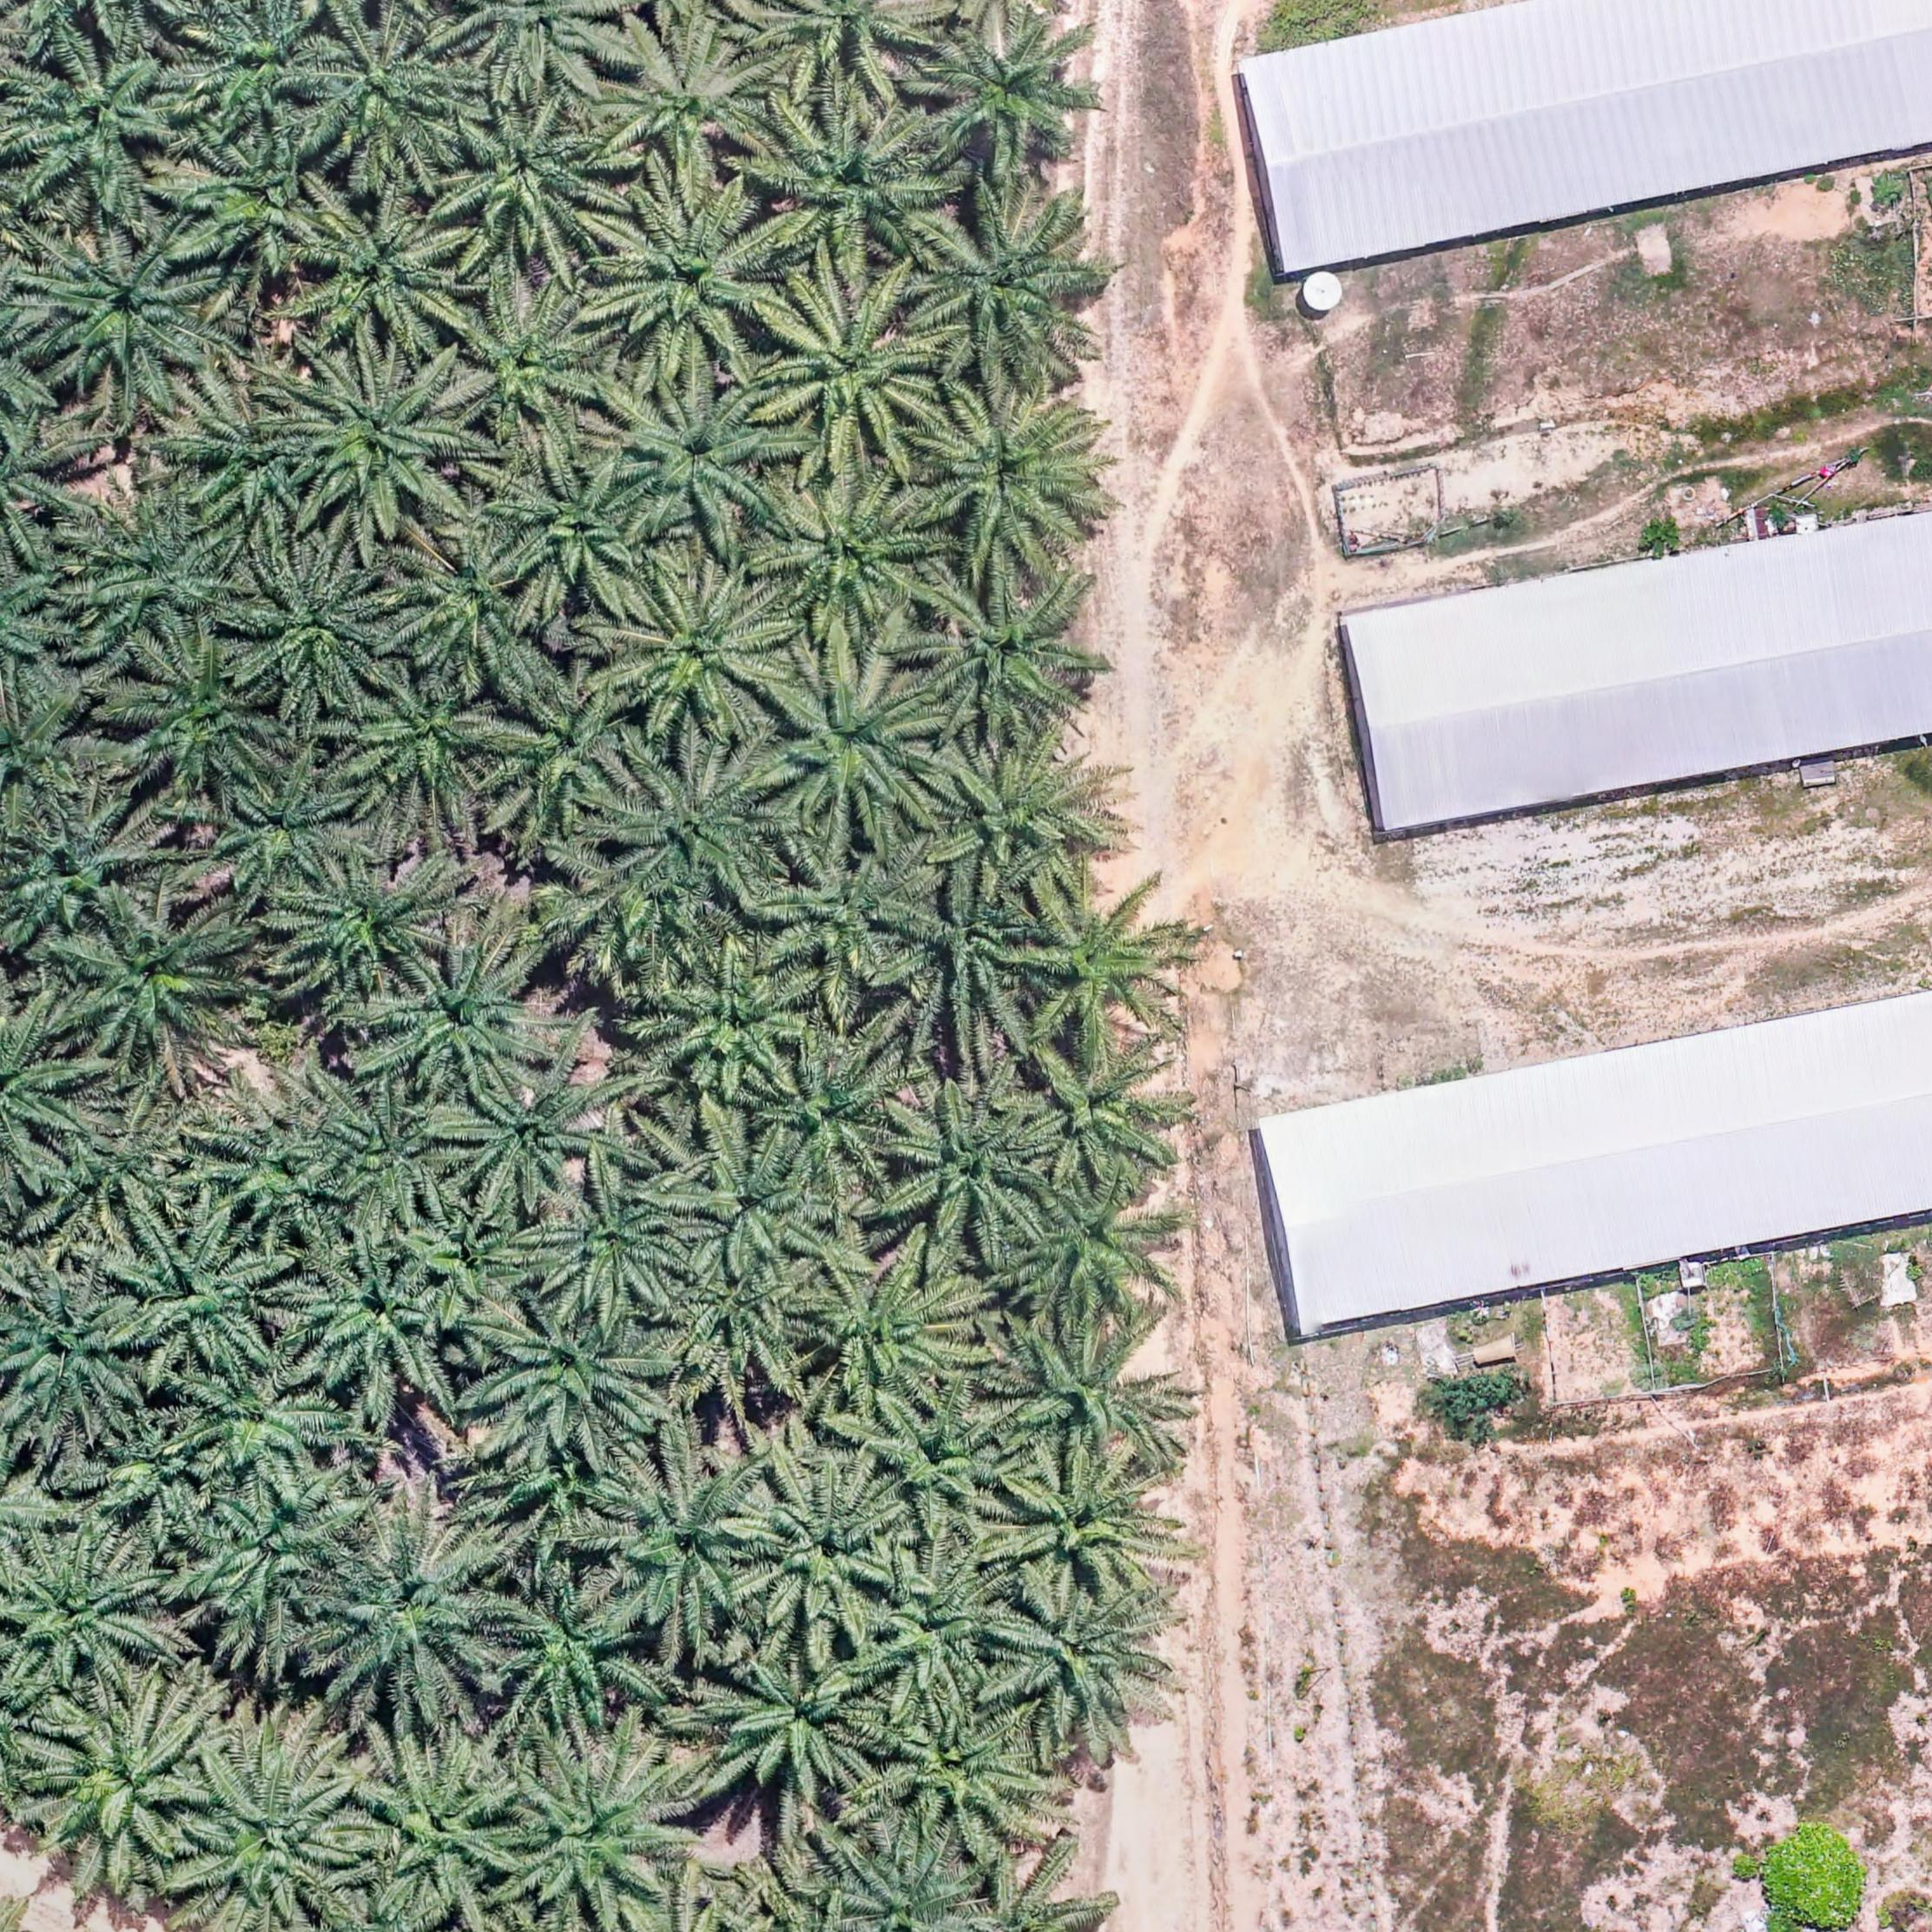palmtree: (310, 1512, 517, 1713), (919, 379, 1125, 571), (27, 221, 228, 406), (178, 1472, 374, 1659), (279, 350, 473, 538), (33, 1696, 227, 1882), (597, 190, 788, 377), (495, 1740, 690, 1922), (913, 199, 1105, 382), (593, 1459, 778, 1645), (184, 1743, 373, 1926), (765, 658, 950, 836), (762, 103, 952, 276), (765, 276, 947, 453), (348, 1741, 532, 1916), (616, 566, 801, 741), (13, 43, 199, 215), (923, 567, 1107, 741), (478, 1297, 669, 1464), (933, 744, 1126, 909), (617, 372, 801, 544), (703, 1640, 887, 1810), (914, 10, 1098, 180), (993, 1575, 1179, 1742), (65, 896, 246, 1065), (742, 1466, 914, 1641), (444, 100, 625, 266), (1016, 875, 1192, 1045), (521, 841, 694, 1012), (77, 499, 260, 661), (764, 476, 946, 637), (291, 193, 470, 357), (375, 939, 554, 1103), (115, 1213, 293, 1375), (876, 1700, 1056, 1861), (599, 29, 779, 188), (615, 752, 795, 911), (482, 670, 650, 836), (299, 16, 471, 178), (1005, 1175, 1179, 1334), (1001, 1445, 1178, 1601), (888, 1087, 1058, 1250), (118, 638, 286, 802), (5, 1534, 177, 1694), (1002, 1319, 1187, 1467), (485, 1570, 656, 1730), (647, 950, 820, 1106), (181, 125, 350, 284), (800, 1263, 975, 1414), (237, 550, 404, 709), (275, 853, 454, 1000), (890, 875, 1052, 1037), (452, 286, 617, 440), (1023, 1032, 1187, 1185), (663, 1247, 834, 1394), (491, 457, 654, 610), (288, 1250, 455, 1399), (756, 1036, 920, 1187), (3, 1277, 157, 1431), (867, 1551, 1026, 1700), (313, 1081, 475, 1228), (865, 1400, 1030, 1543), (5, 795, 162, 945), (674, 1127, 827, 1281), (453, 1066, 615, 1211), (773, 842, 934, 987), (392, 526, 544, 679), (356, 670, 512, 814), (182, 3, 340, 141), (540, 1183, 696, 1320), (213, 764, 364, 902), (184, 1357, 335, 1488), (756, 0, 946, 103), (45, 1108, 195, 1238), (0, 997, 97, 1187), (403, 1197, 544, 1328), (179, 395, 318, 524), (450, 0, 630, 97), (490, 1439, 636, 1548), (216, 1124, 343, 1241), (0, 406, 94, 562), (94, 1414, 216, 1533), (0, 688, 107, 823), (0, 558, 83, 713), (956, 1855, 1102, 1932)
